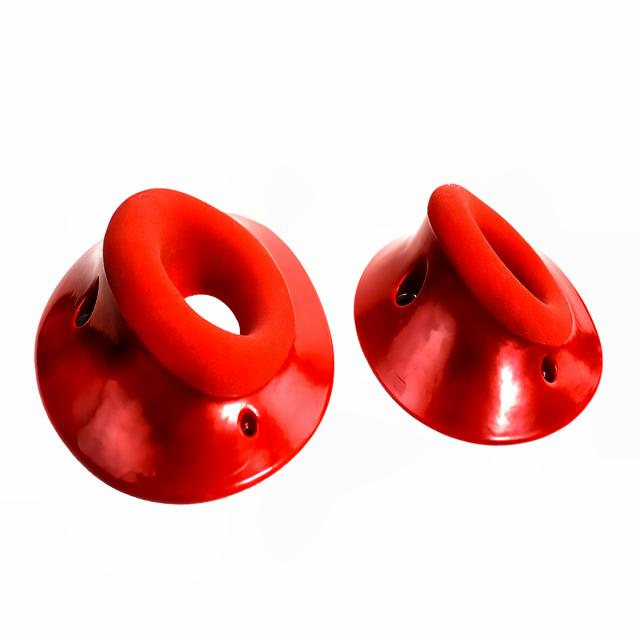Hold: (36, 192, 337, 504), (355, 177, 605, 443)
